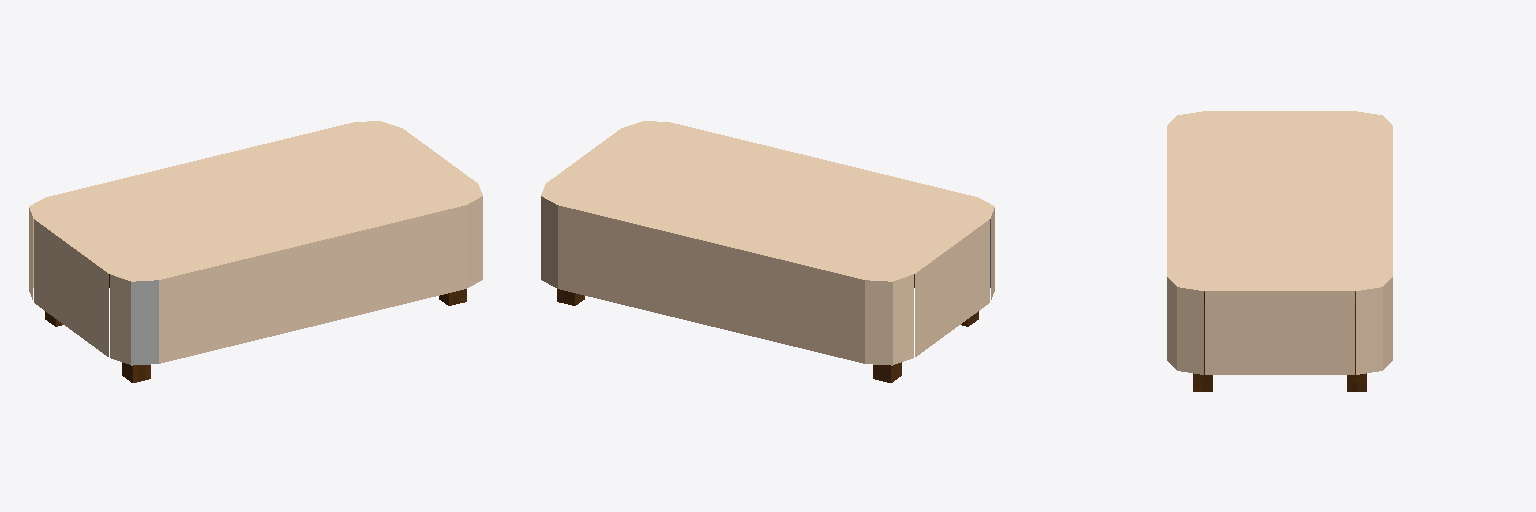
The picture shows the model from 3 angles: view 1: azimuth 30°, elevation 25°; view 2: azimuth 150°, elevation 25°; view 3: azimuth 270°, elevation 25°; orthographic projection.
Parts seen in each view (by area): view 1: plane, cuboid; view 2: plane, cuboid; view 3: plane, cuboid.
Part boxes in pixels (left/top/right/bottom): plane: left=29, top=121, right=482, bottom=365; cuboid: left=45, top=274, right=466, bottom=382; plane: left=541, top=121, right=994, bottom=365; cuboid: left=557, top=274, right=978, bottom=382; plane: left=1167, top=111, right=1392, bottom=374; cuboid: left=1193, top=291, right=1366, bottom=391.
Bounding box in the file's own units: 5.19 × 1.47 × 2.76.
3 materials, 2 textured.